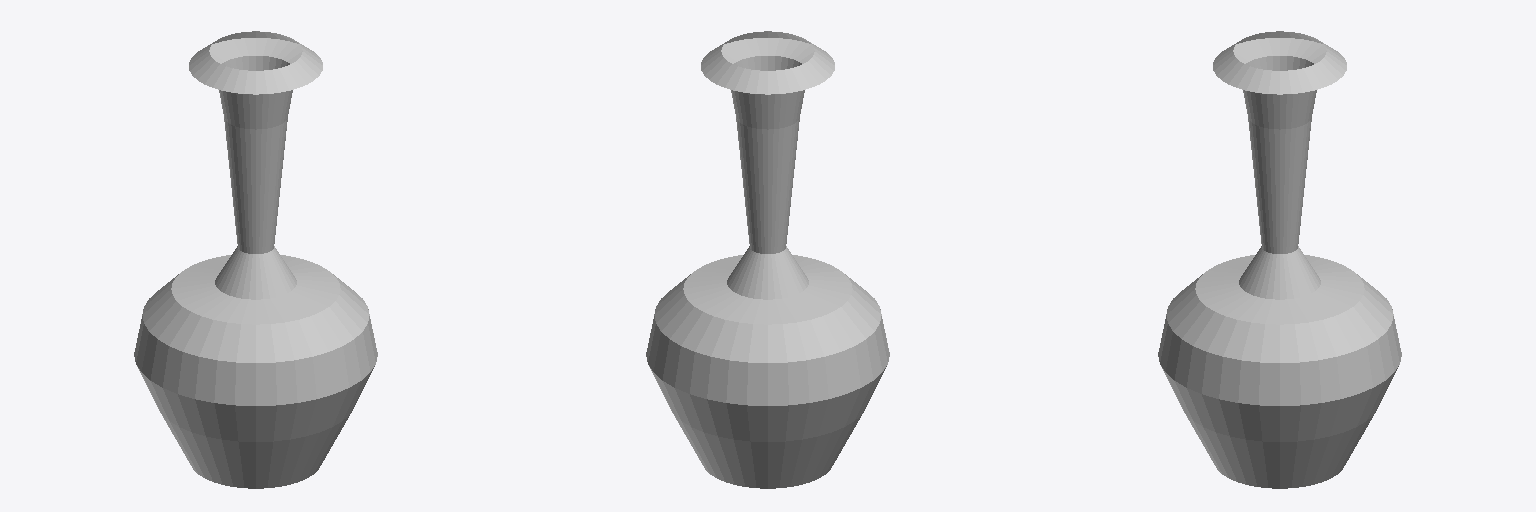
The model's file is potion.obj.
3 renders of one model, left to right at view 1: azimuth 30°, elevation 25°; view 2: azimuth 150°, elevation 25°; view 3: azimuth 270°, elevation 25°, orthographic.
Visible parts, largest first — view 1: Circle; view 2: Circle; view 3: Circle.
Part boxes in pixels (bbox=[...]): Circle: bbox=[134, 31, 377, 488]; Circle: bbox=[646, 31, 889, 488]; Circle: bbox=[1158, 31, 1401, 488].
Bounding box in the file's own units: 2.6 × 4.82 × 2.6.